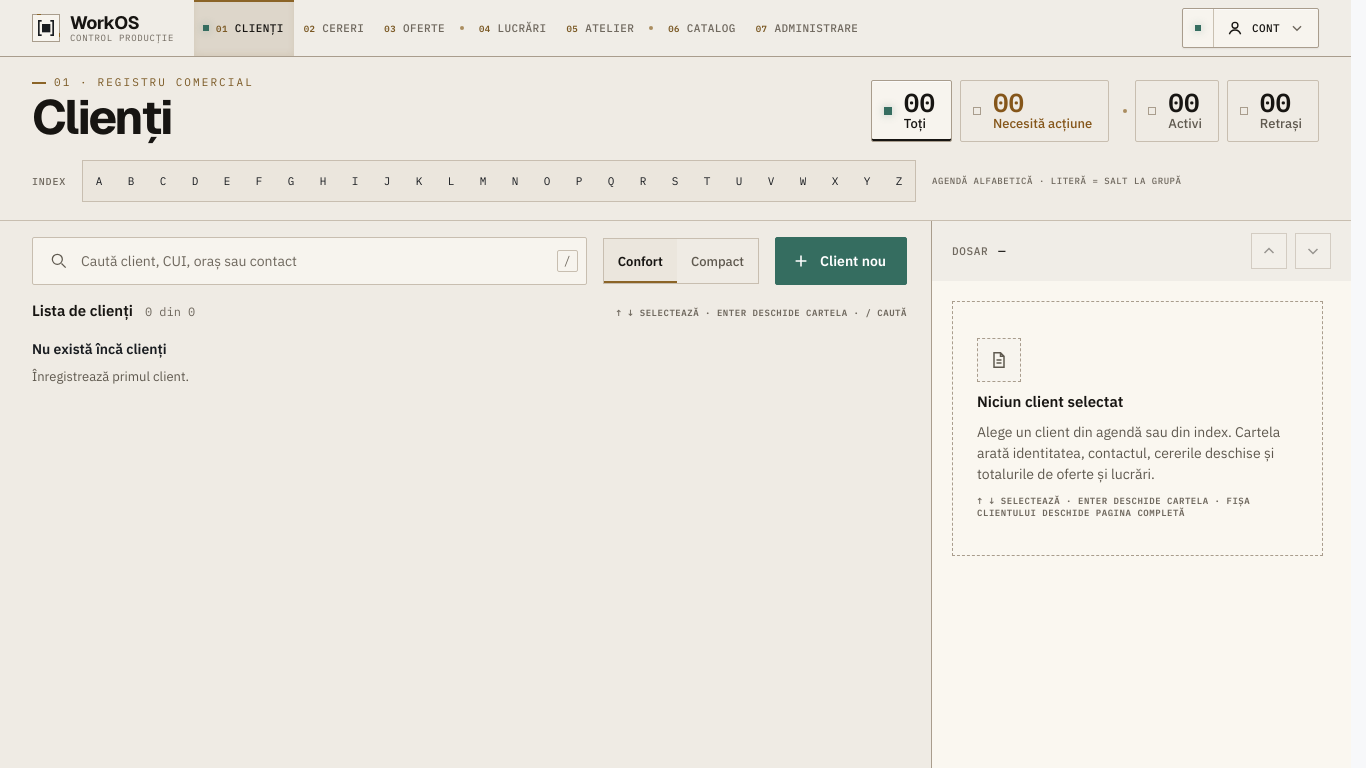
Test case: App Cloud auth integration › offers organization switching when the session has multiple memberships
Click the button "Cont" at coordinates (1266, 28), box left=1214, top=9, right=1318, bottom=47
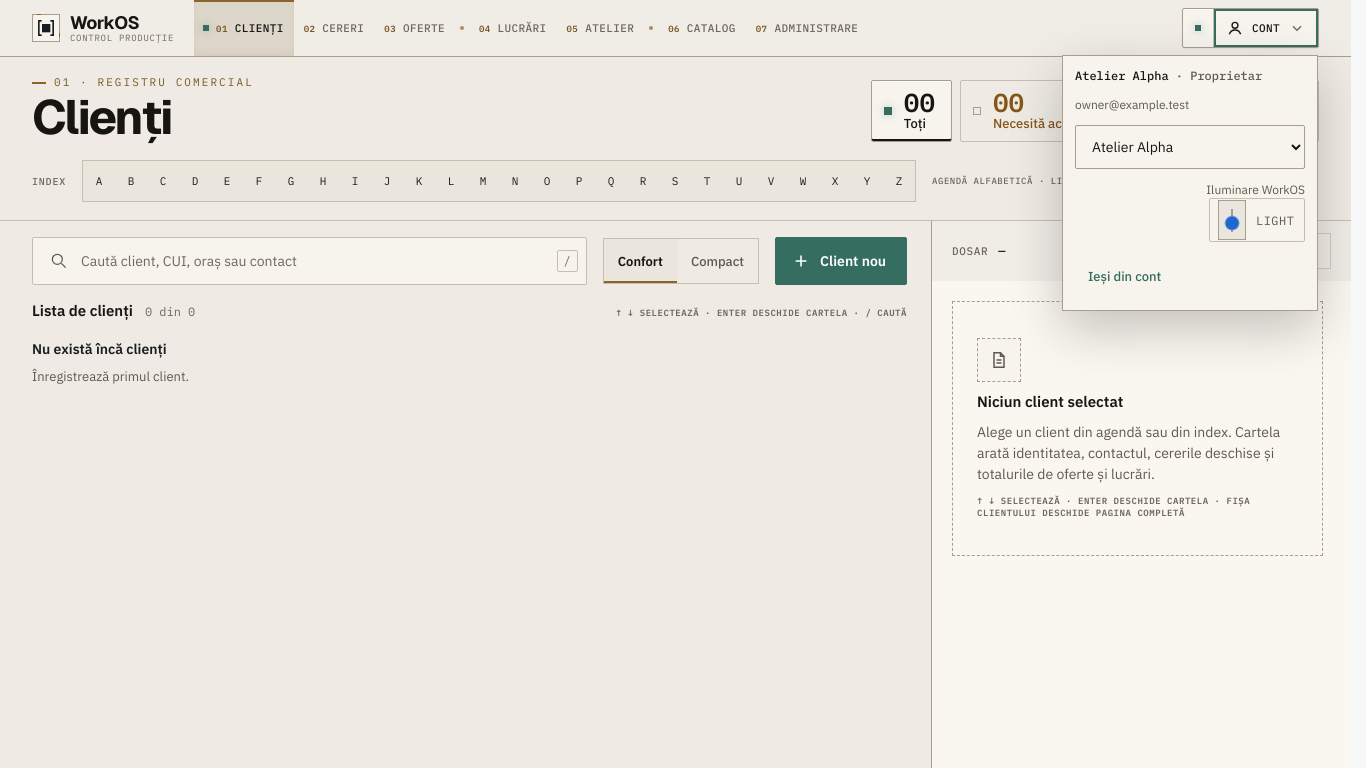
Select "Atelier Beta" in the dropdown named "Organizație activă" at coordinates (1190, 147), box left=1075, top=125, right=1305, bottom=169
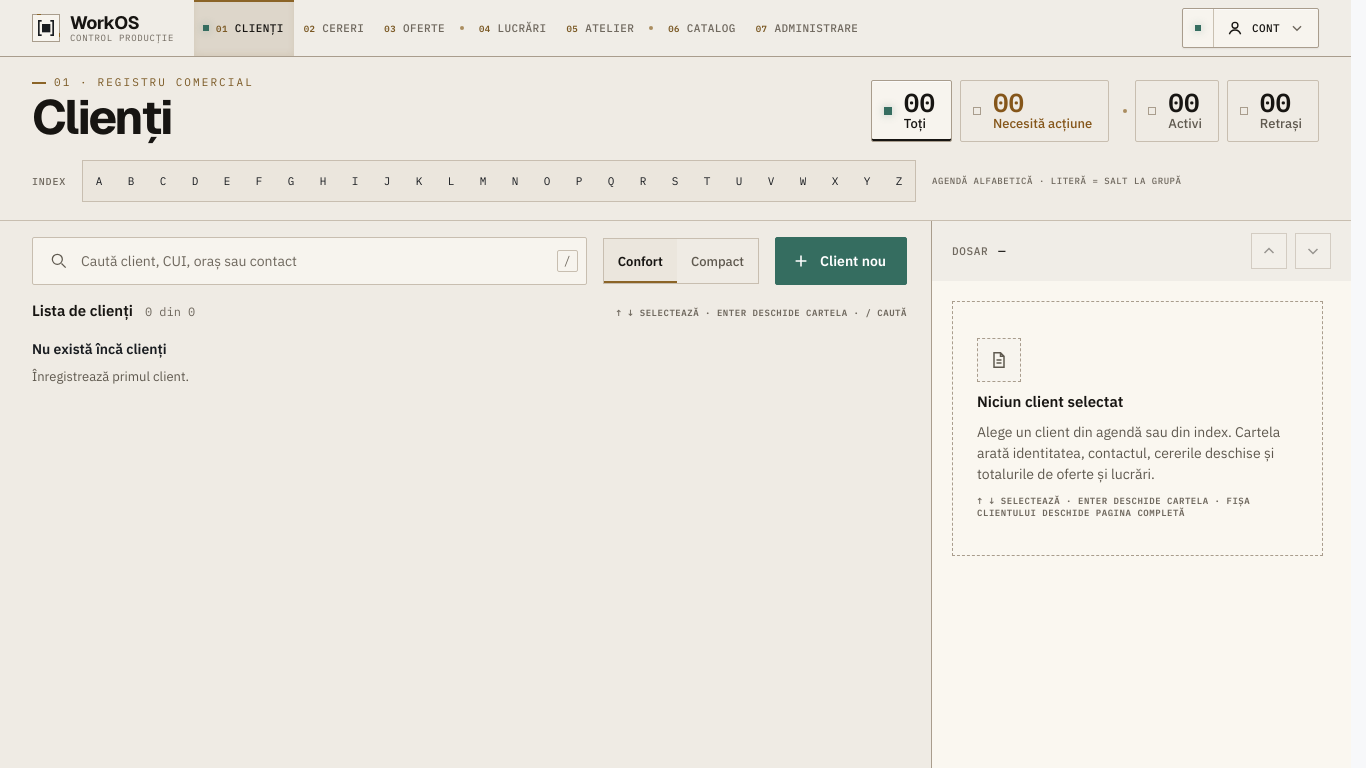
Click the button "Cont" at coordinates (1266, 28), box left=1214, top=9, right=1318, bottom=47
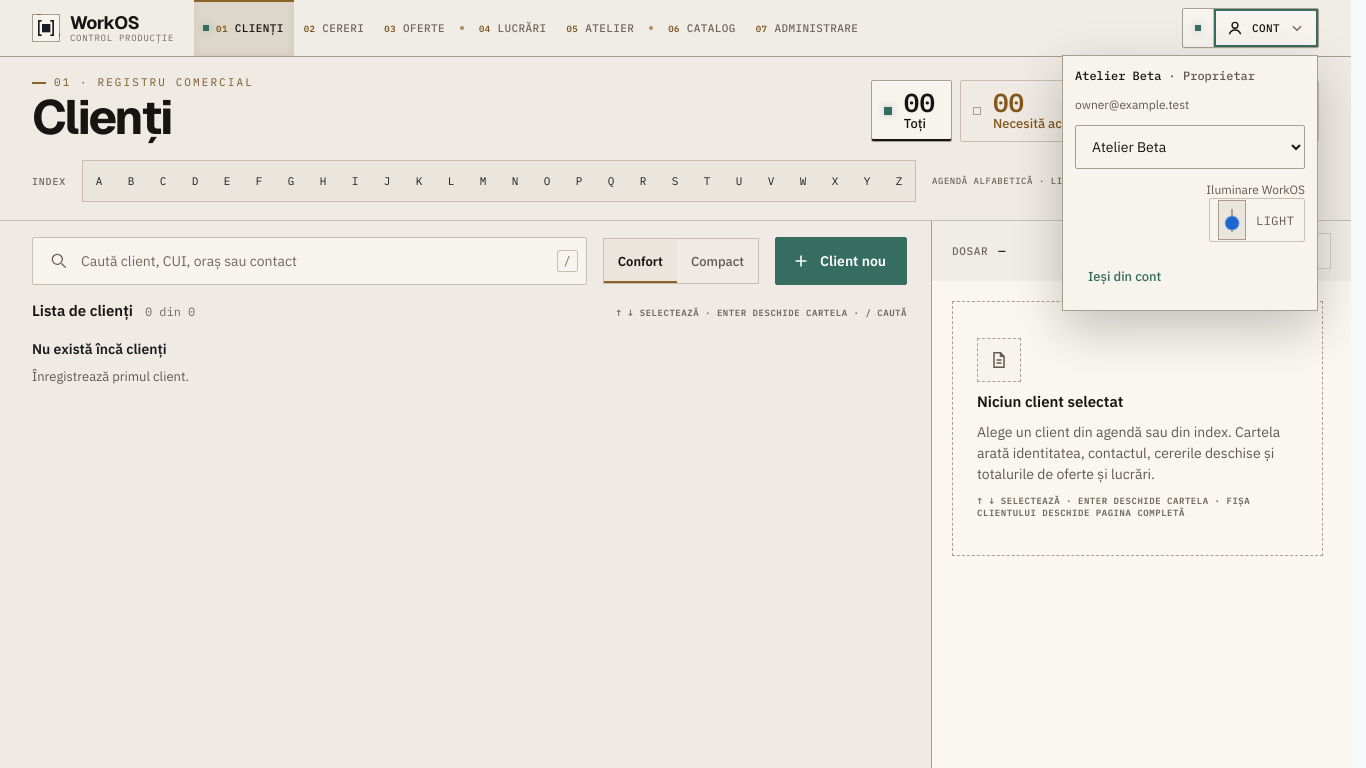
Result: the dropdown named "Organizație activă" shows "Atelier Beta" at left=1075, top=125, right=1305, bottom=169
